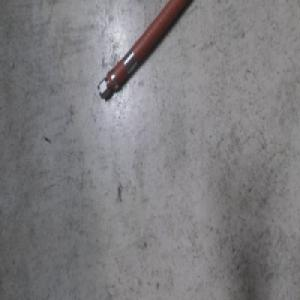Hose: (96, 0, 193, 101)
